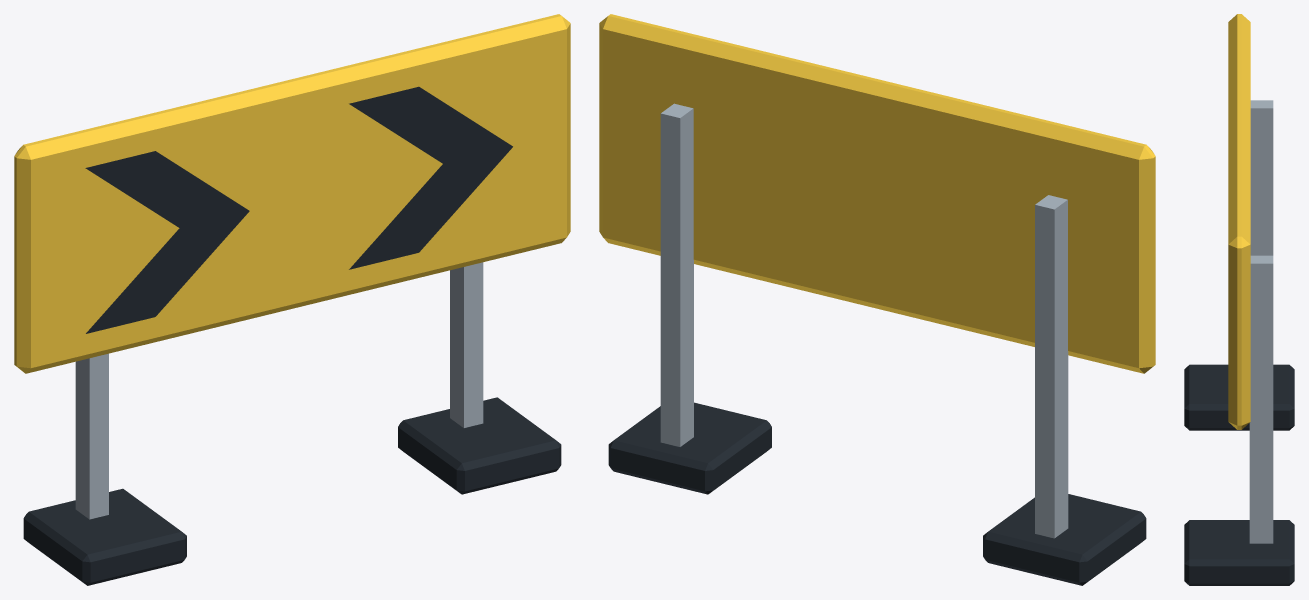
File: chevron_board_right.glb
3 views of the same model, side by side, from view 1: azimuth 30°, elevation 25°; view 2: azimuth 150°, elevation 25°; view 3: azimuth 270°, elevation 25° (orthographic). The views are drawn at different scales.
Parts seen in each view (by area): view 1: chevron_board_right__static; view 2: chevron_board_right__static; view 3: chevron_board_right__static.
Part boxes in pixels (x1,y1,x2,y2): chevron_board_right__static: (14,14,570,585); chevron_board_right__static: (599,14,1155,585); chevron_board_right__static: (1184,14,1294,585).
Size of the model in its own units: 3.7 by 2.72 by 0.75.
